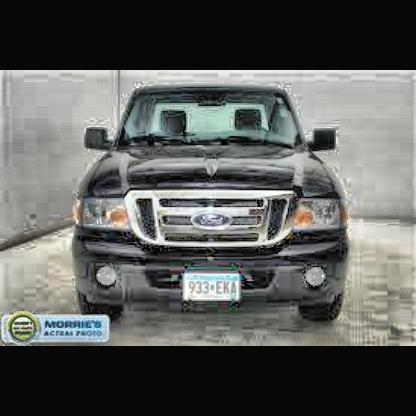Ford Ranger SuperCab 2011: (69, 82, 353, 339)
